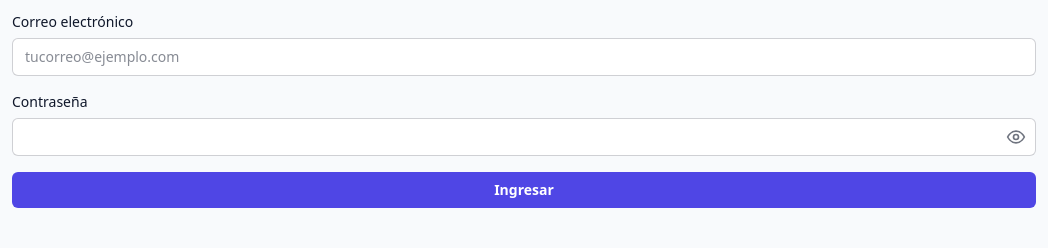
Test: FormularioLogin › con una contraseña corta muestra el mensaje de contraseña corta
In the field labelled "Correo electrónico": (524, 57) x1=12 y1=38 x2=1036 y2=76, type "usuario@ejemplo.com"
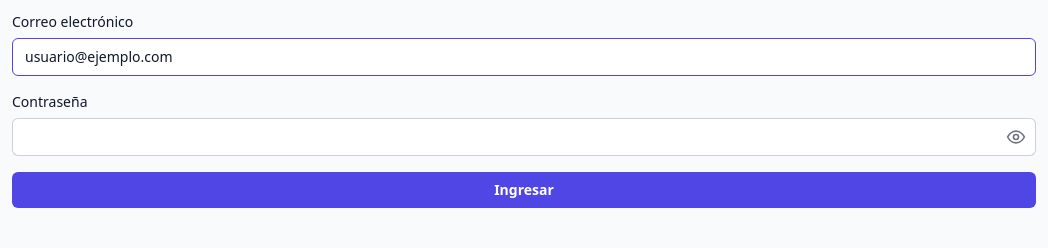
In the password field labelled "Contraseña": (524, 137) x1=12 y1=118 x2=1036 y2=156, type "1234567"
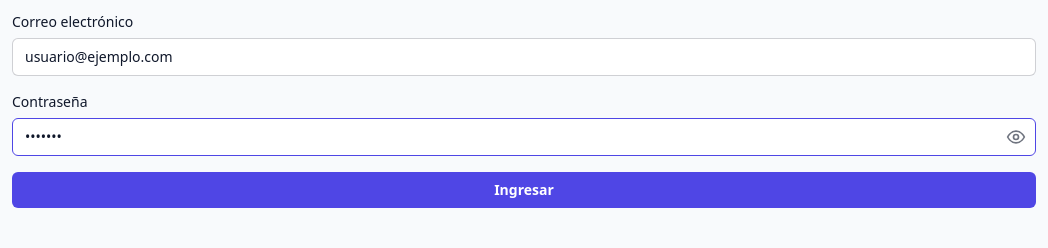
Click the button "Ingresar": (524, 190) x1=12 y1=172 x2=1036 y2=208
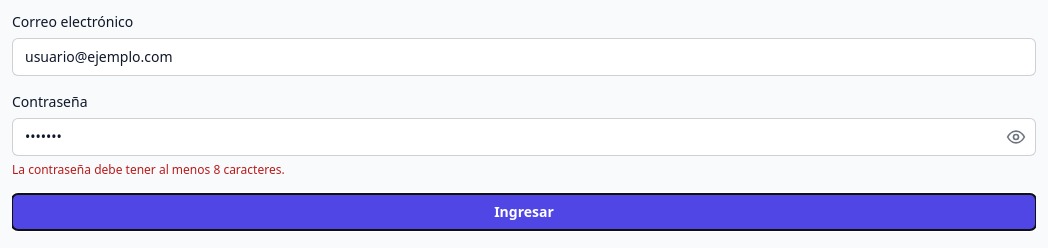
Check: the text "La contraseña debe tener al menos 8 caracteres." is shown, box x1=12 y1=161 x2=285 y2=178
